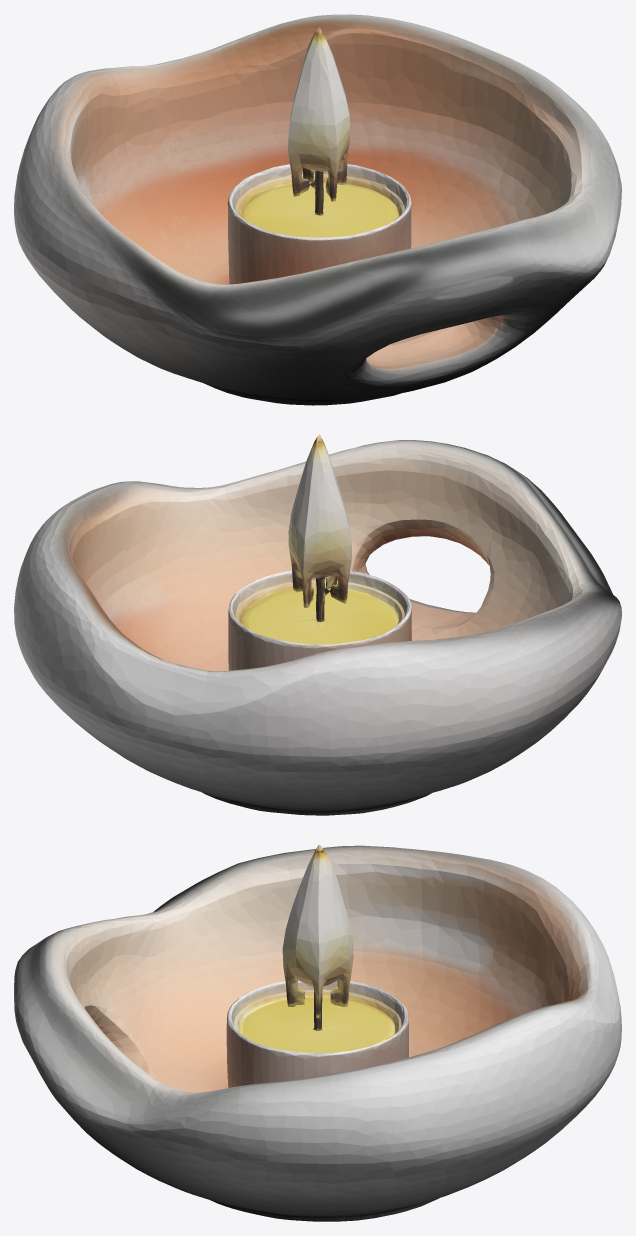
File: porcelain-candle-holder-3d.jpeg.glb
3 renders of one model, top to bottom at view 1: azimuth 30°, elevation 25°; view 2: azimuth 150°, elevation 25°; view 3: azimuth 270°, elevation 25°, orthographic.
Parts seen in each view (by area): view 1: world; view 2: world; view 3: world.
Part boxes in pixels (left/top/right/bottom): world: left=14, top=14, right=621, bottom=405; world: left=14, top=434, right=621, bottom=815; world: left=14, top=844, right=621, bottom=1221.
Size of the model in its own units: 0.999 by 0.5705 by 1.
1 material, 1 textured.
